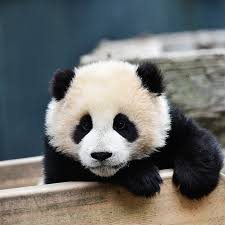panda: (34, 52, 225, 206)
